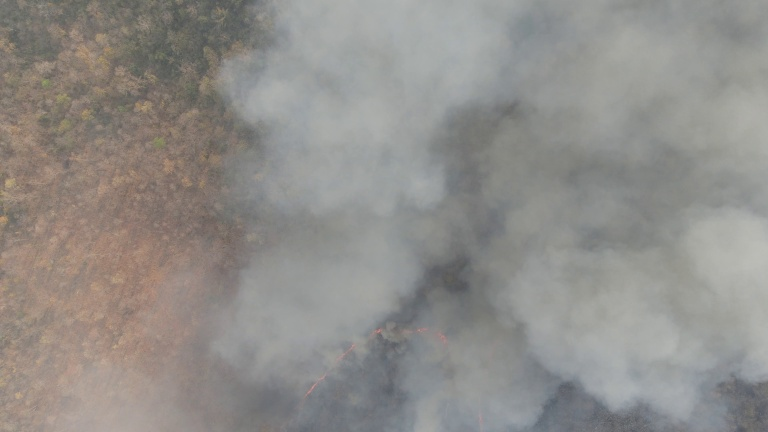fire: (295, 319, 392, 421), (401, 326, 453, 348), (469, 393, 487, 432)
smoke: (470, 1, 768, 393), (211, 1, 486, 360)
